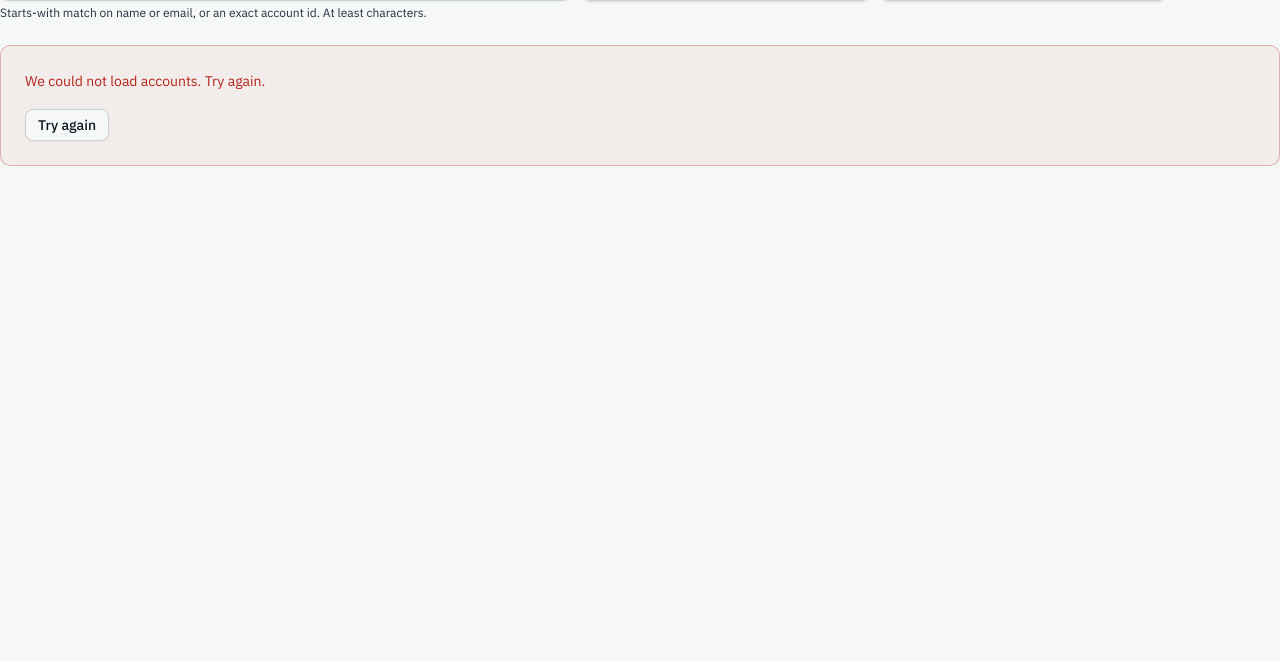
Test: loading, error, empty › error then retry re-requests
This screenshot has width=1280, height=661.
Expected: the message shows "We could not load accounts. Try again.", left=25, top=72, right=265, bottom=90
Click the button "Try again". click: (67, 125)
box: left=25, top=109, right=109, bottom=141
(page scrolled)
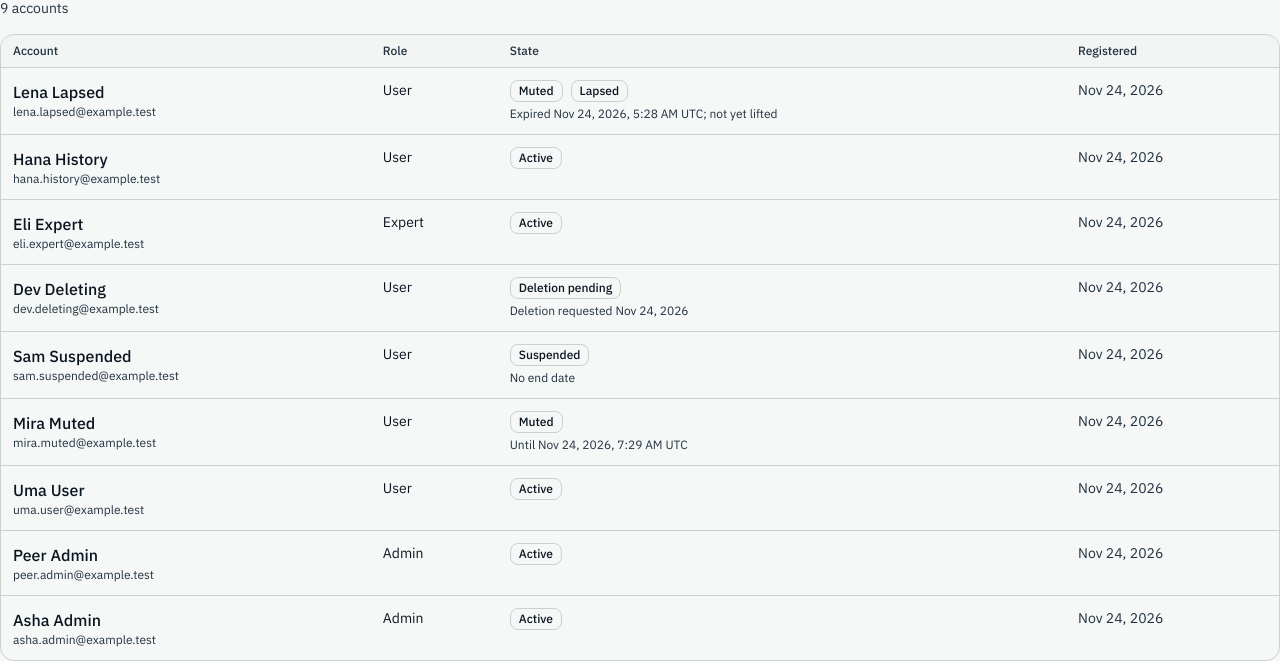
Expected: the table is shown
